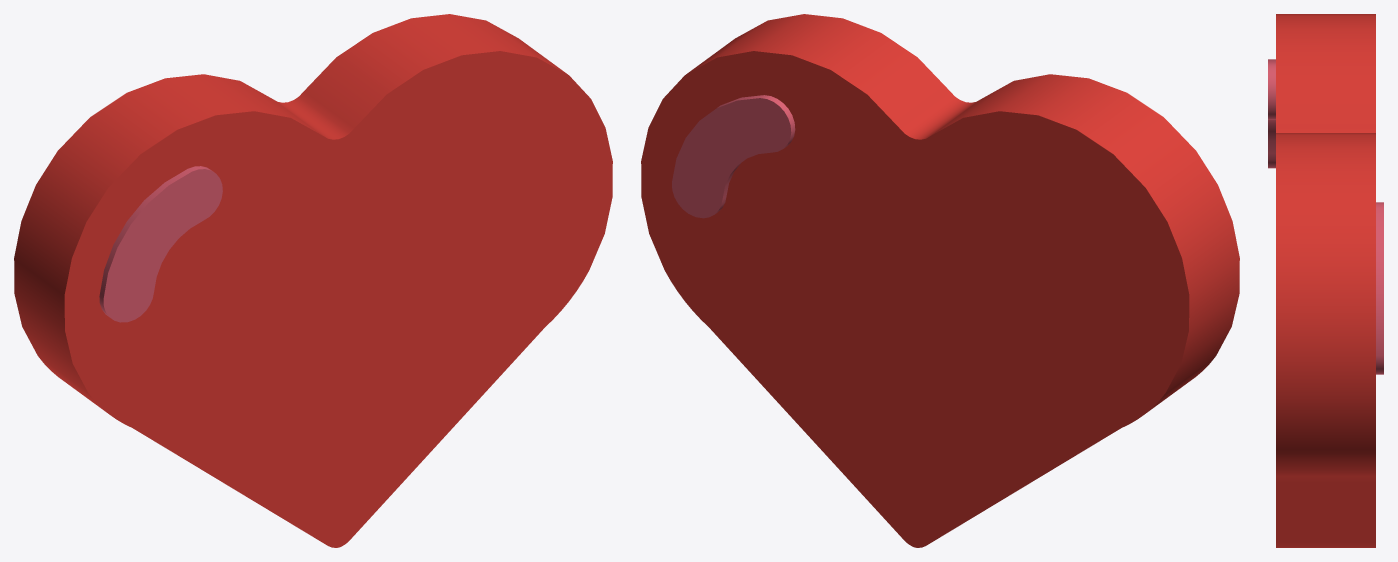
The model's file is emoji_3.glb.
3 renders of one model, left to right at view 1: azimuth 30°, elevation 25°; view 2: azimuth 150°, elevation 25°; view 3: azimuth 270°, elevation 25°, orthographic.
Parts seen in each view (by area): view 1: Emoji_heart; view 2: Emoji_heart; view 3: Emoji_heart.
Part boxes in pixels (left/top/right/bottom): Emoji_heart: left=14, top=14, right=612, bottom=547; Emoji_heart: left=641, top=14, right=1239, bottom=547; Emoji_heart: left=1268, top=14, right=1383, bottom=547.
Bounding box in the file's own units: 0.7129 × 0.5747 × 0.1321.
